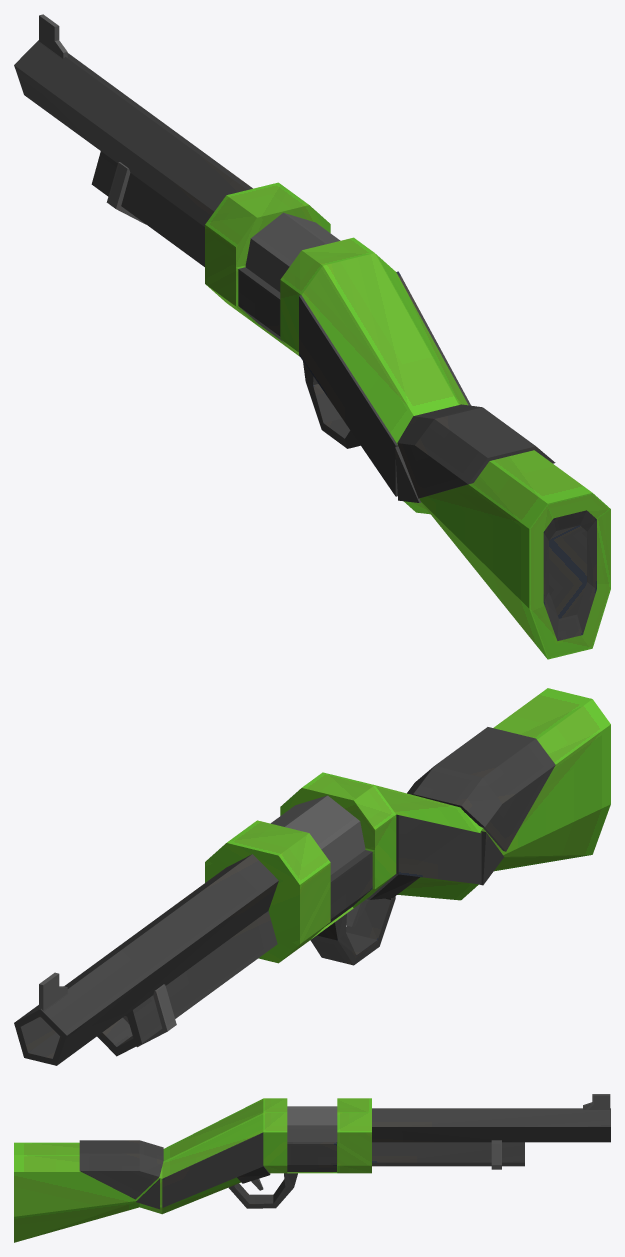
File: shotgun_1.glb
3 renders of one model, top to bottom at view 1: azimuth 30°, elevation 25°; view 2: azimuth 150°, elevation 25°; view 3: azimuth 270°, elevation 25°, orthographic. The views are drawn at different scales.
Visible parts, largest first — view 1: shotgun_1; view 2: shotgun_1; view 3: shotgun_1.
Boxes of the visible parts, x1,y1,x2,y2 form: shotgun_1: [14, 14, 610, 659]; shotgun_1: [14, 688, 610, 1065]; shotgun_1: [14, 1094, 610, 1242].
Size of the model in its own units: 0.0775 by 0.1871 by 0.7131.
1 material, 1 textured.
